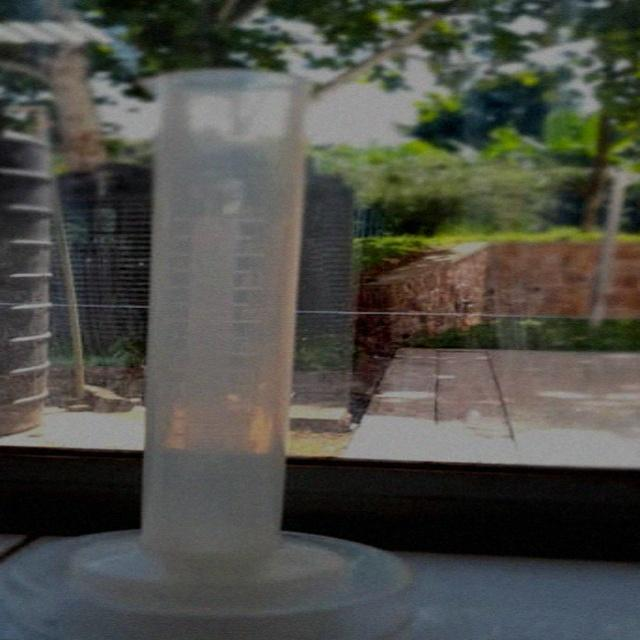Measuring Cylinder: (87, 64, 380, 616)
